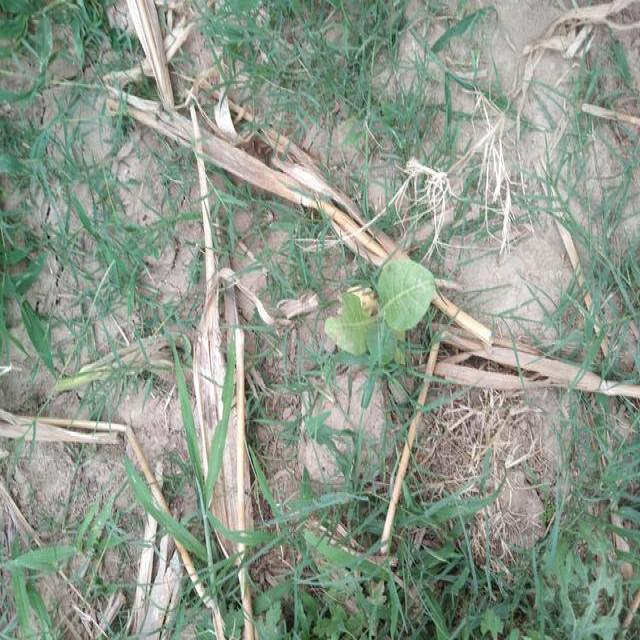crop: (325, 253, 443, 370)
